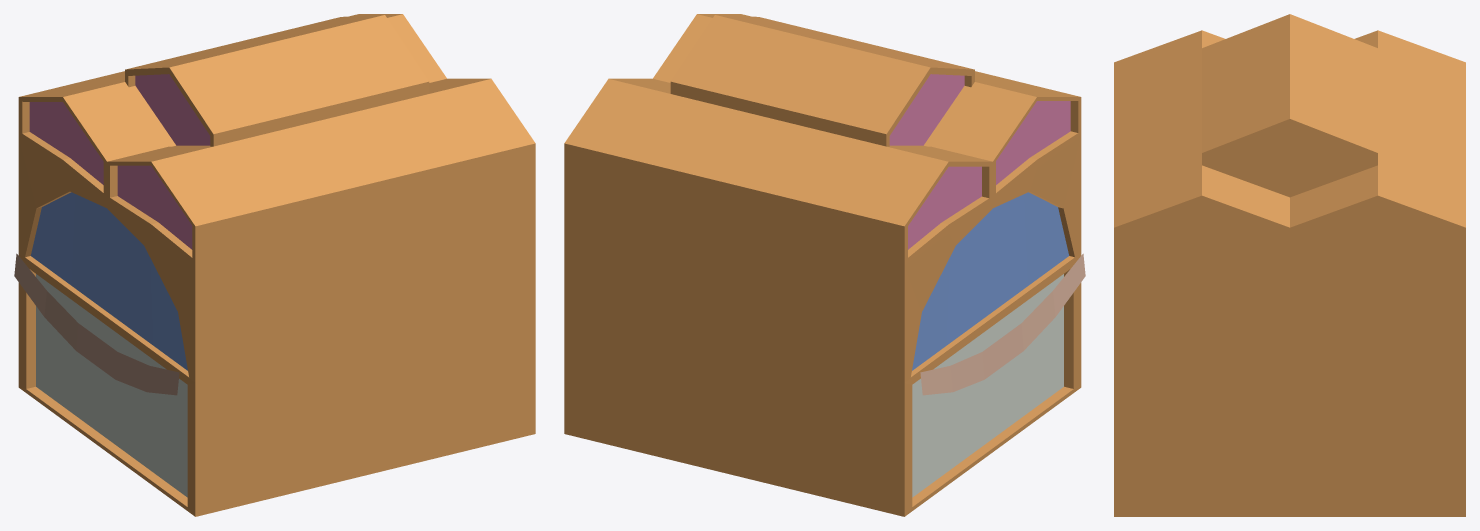
The model's file is DualityBar_Heaven.fbx.
3 views of the same model, side by side, from view 1: azimuth 30°, elevation 25°; view 2: azimuth 150°, elevation 25°; view 3: azimuth 270°, elevation 25° (orthographic).
Parts seen in each view (by area): view 1: Cube, Plane; view 2: Cube, Plane; view 3: Cube.
Boxes of the visible parts, x1,y1,x2,y2 form: Cube: (18,14,535,516); Plane: (14,253,179,395); Cube: (564,14,1081,516); Plane: (920,253,1085,395); Cube: (1114,14,1465,516).
Bounding box in the file's own units: 1034 × 1038 × 900.
